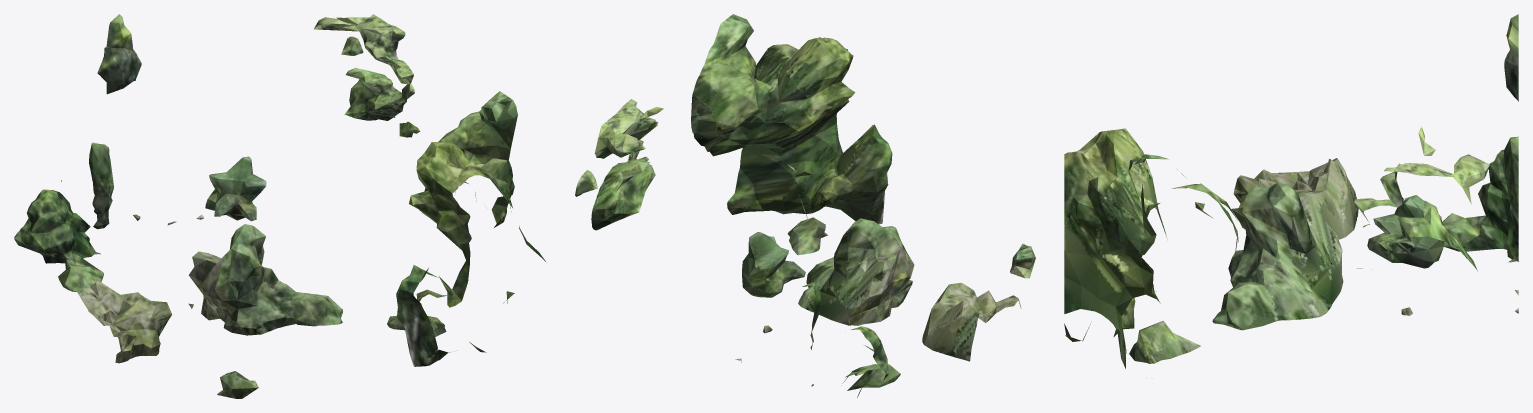
3 views of the same model, side by side, from view 1: azimuth 30°, elevation 25°; view 2: azimuth 150°, elevation 25°; view 3: azimuth 270°, elevation 25° (orthographic). The views are drawn at different scales.
Bounding box in the file's own units: 26.11 × 16.53 × 26.11.
3 materials, 3 textured.
